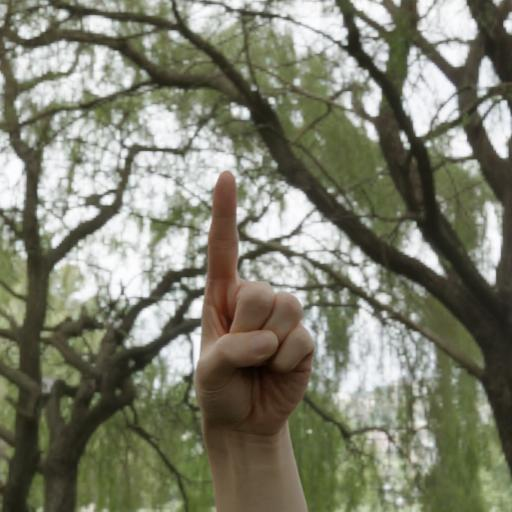Z: (188, 153, 326, 438)
